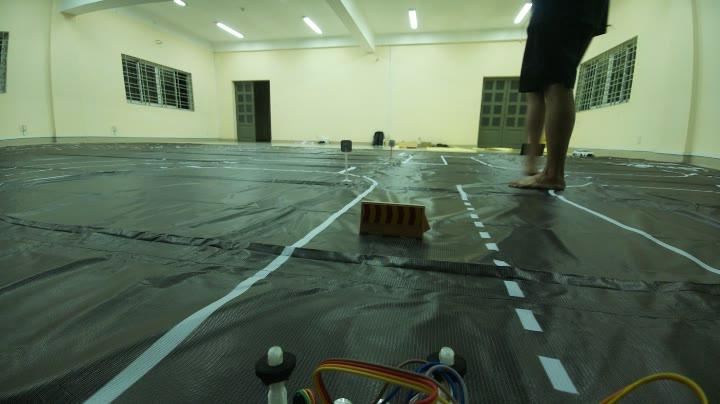roadblock: (353, 186, 438, 246)
